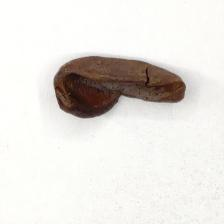NG: (56, 64, 184, 120)
